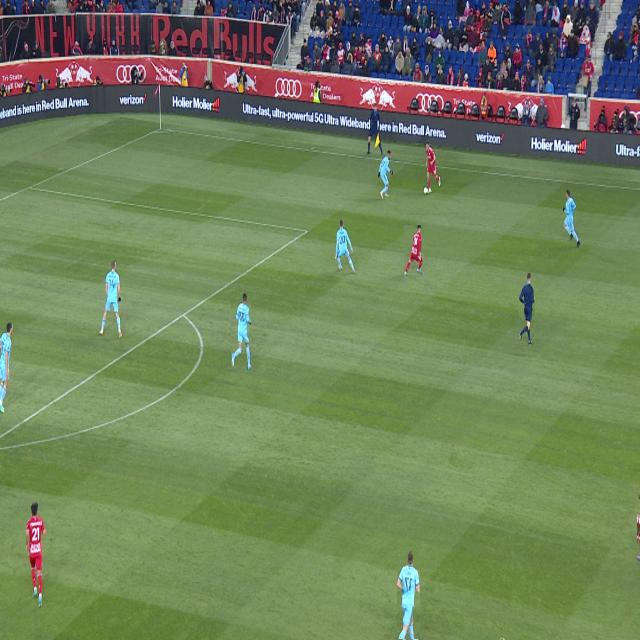football: (423, 187, 428, 194)
player: (26, 502, 46, 607), (397, 551, 420, 639), (99, 261, 122, 339), (232, 293, 251, 370), (0, 322, 13, 413), (335, 219, 355, 274), (563, 189, 580, 247), (405, 225, 423, 276), (426, 140, 441, 194), (378, 150, 393, 199), (638, 512, 639, 545)
referee: (519, 273, 535, 346)
